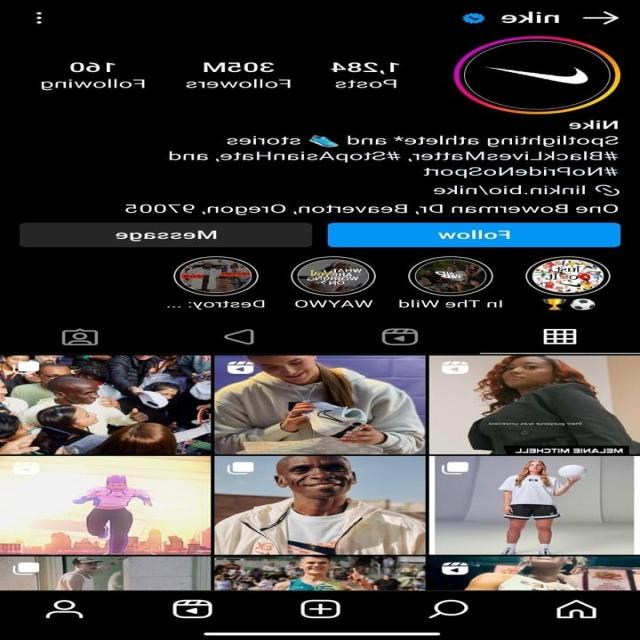Drawer: (40, 599, 86, 623), (170, 598, 214, 621), (554, 598, 598, 620), (426, 599, 469, 621), (298, 598, 340, 619), (380, 326, 418, 348), (538, 328, 580, 347), (60, 328, 101, 347), (578, 9, 620, 26), (224, 328, 254, 346), (11, 461, 41, 479), (225, 360, 256, 377), (440, 360, 470, 375), (11, 360, 39, 376), (440, 460, 468, 476), (11, 562, 41, 576), (593, 184, 622, 198), (226, 462, 254, 476), (439, 562, 467, 576), (29, 10, 47, 27)
EditText: (426, 354, 638, 456), (0, 354, 210, 454), (215, 456, 425, 556), (215, 354, 424, 454), (1, 456, 212, 555), (428, 457, 639, 554), (451, 35, 624, 117), (211, 556, 425, 592), (0, 555, 208, 592), (428, 555, 640, 591), (538, 297, 604, 312), (462, 12, 484, 25)
Icon: (433, 183, 590, 198)
Modal: (164, 119, 619, 178), (120, 204, 618, 214), (524, 254, 612, 296), (174, 255, 258, 297), (408, 254, 494, 295), (38, 60, 148, 91), (289, 256, 378, 294), (184, 62, 294, 88), (325, 61, 401, 91), (162, 298, 268, 312), (498, 10, 560, 27), (396, 299, 505, 308), (294, 298, 372, 308)
